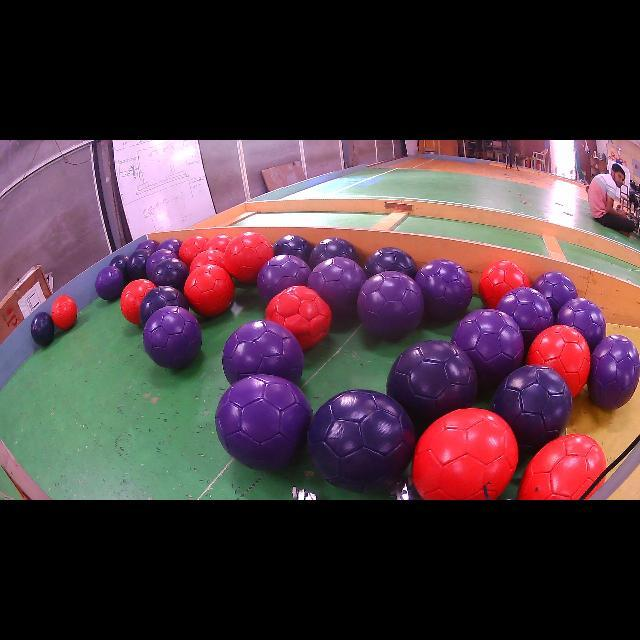B: (308, 390, 415, 492), (386, 340, 478, 428), (491, 365, 572, 450), (139, 286, 189, 328), (364, 248, 418, 278), (309, 238, 360, 269), (150, 258, 189, 292), (272, 235, 312, 262), (31, 311, 55, 346), (126, 249, 152, 279), (110, 254, 129, 283)
P: (215, 375, 312, 471), (451, 309, 524, 388), (222, 320, 304, 384), (358, 271, 424, 340), (588, 335, 640, 410), (142, 306, 202, 369), (308, 256, 368, 318), (496, 286, 554, 349), (415, 259, 472, 320), (558, 298, 606, 352), (258, 254, 311, 302), (532, 271, 579, 319), (95, 266, 125, 301), (146, 249, 179, 279), (156, 239, 182, 254), (136, 239, 159, 252)
R: (412, 408, 519, 500), (518, 434, 606, 500), (526, 325, 591, 396), (266, 286, 331, 349), (184, 265, 235, 316), (224, 231, 274, 282), (479, 260, 530, 309), (120, 279, 155, 324), (51, 295, 78, 330), (179, 235, 208, 266), (190, 250, 224, 272), (204, 235, 231, 252)
